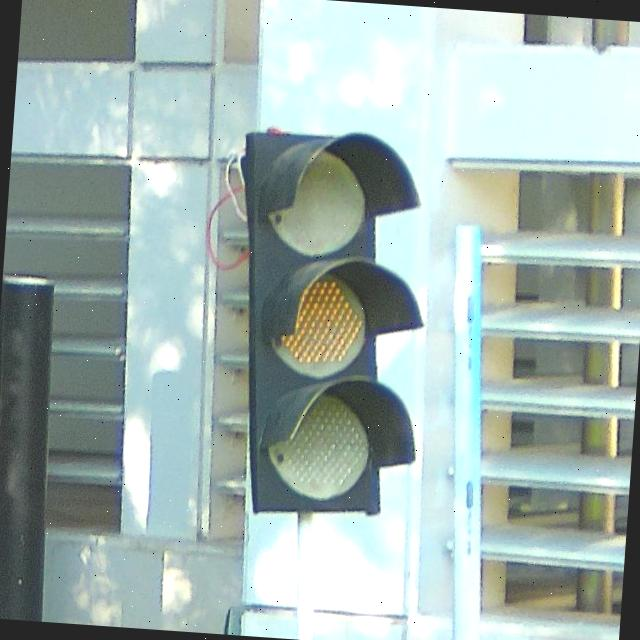yellow_light: (217, 128, 436, 524)
